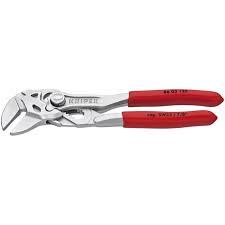pliers: (0, 87, 223, 135)
